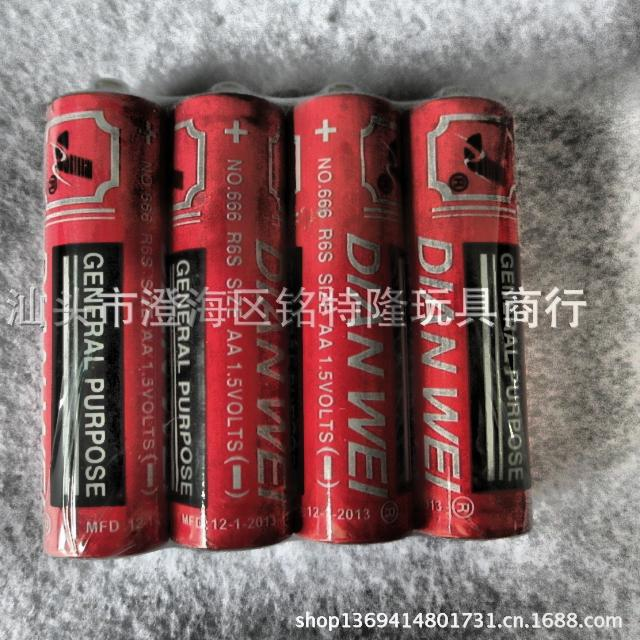Non-Valuable Waste - Batteries: (156, 93, 291, 548), (403, 97, 534, 537), (44, 93, 168, 557), (287, 94, 412, 543)
